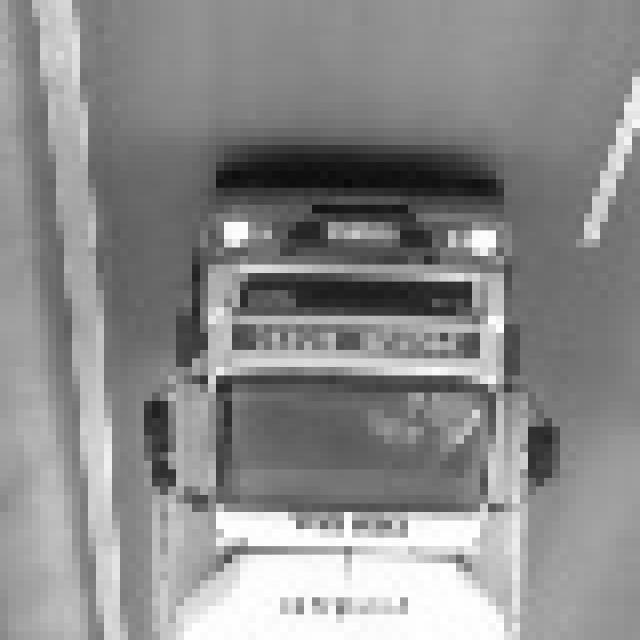truck: (120, 125, 580, 640)
